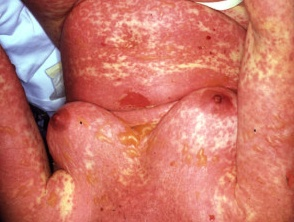SJS-TEN: (0, 0, 293, 220)
